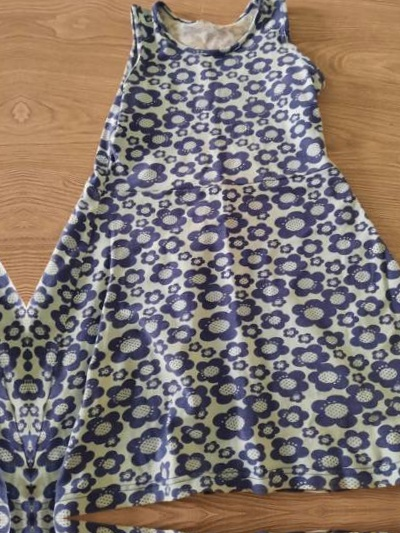Dress: (17, 0, 400, 516), (0, 0, 31, 526), (32, 513, 400, 533), (0, 524, 46, 533)
